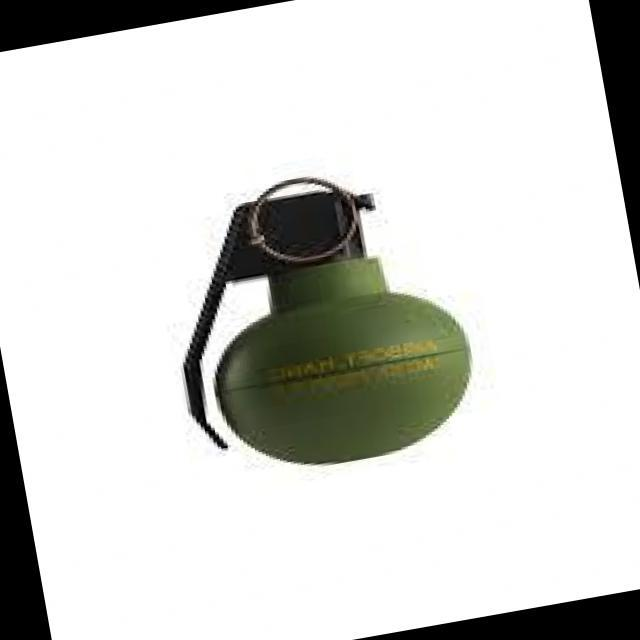grenade: (150, 163, 486, 504)
